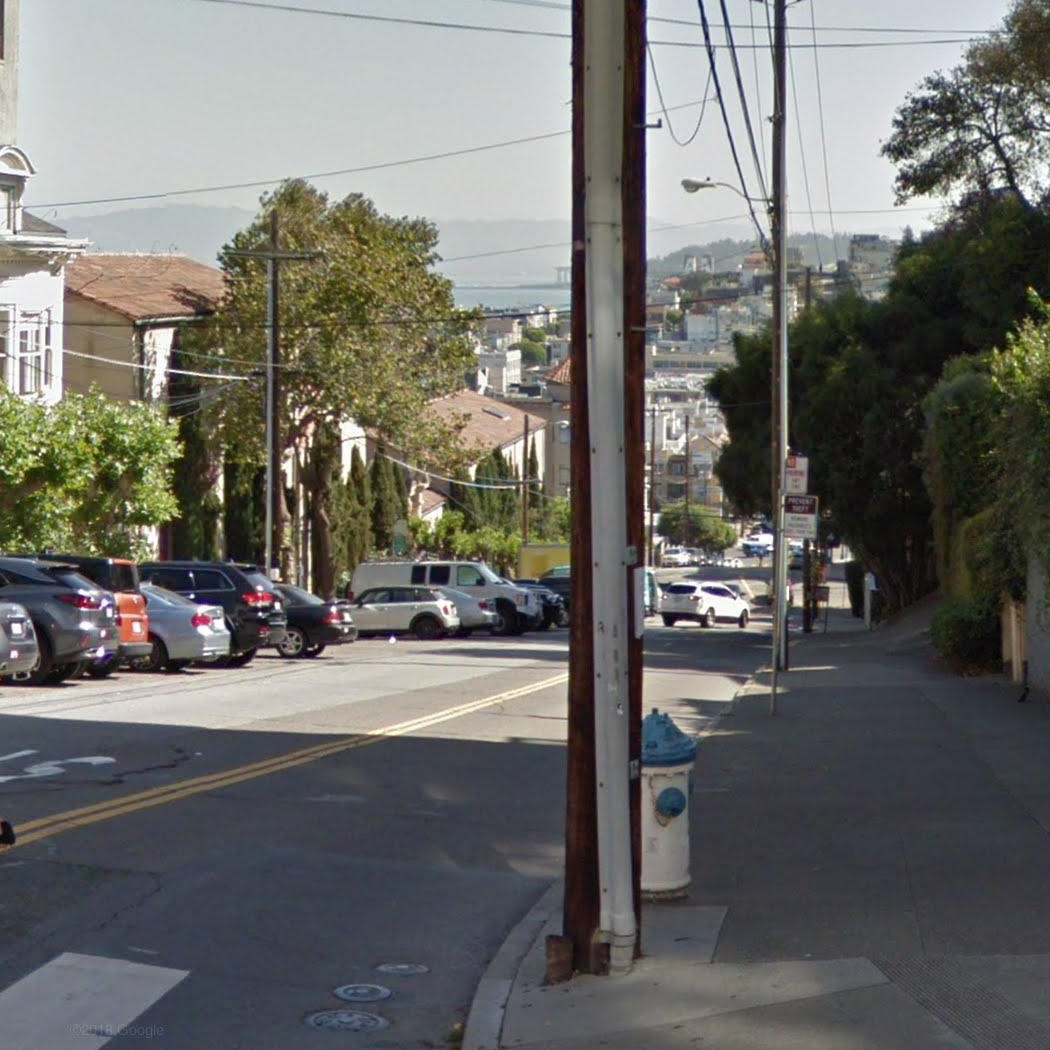No Parking Anytime: (784, 456, 809, 496)
